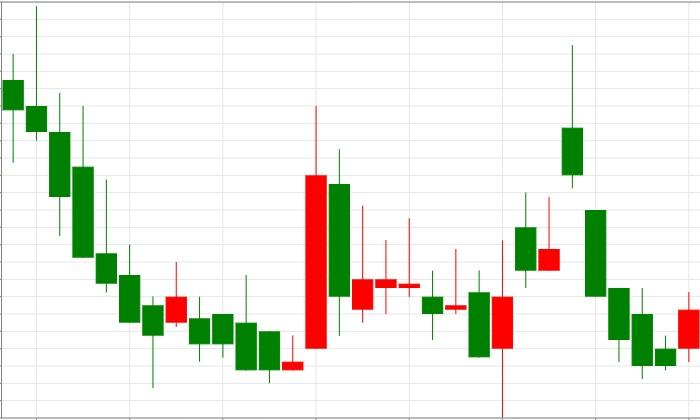inverse_hammer_rise: (2, 6, 117, 293)
shooting_star_fall: (468, 44, 582, 418)
